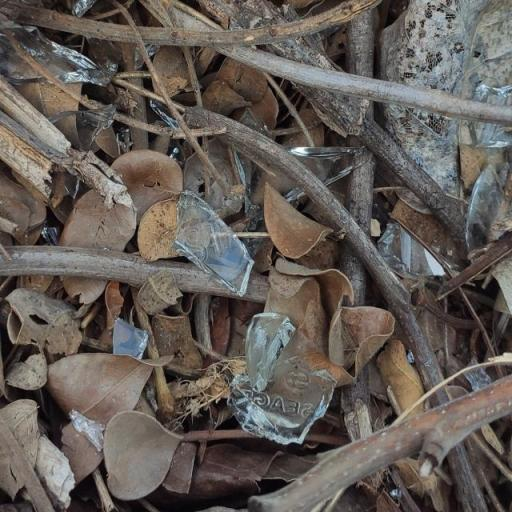glass: (226, 296, 347, 442), (169, 181, 260, 305), (366, 215, 450, 285)
